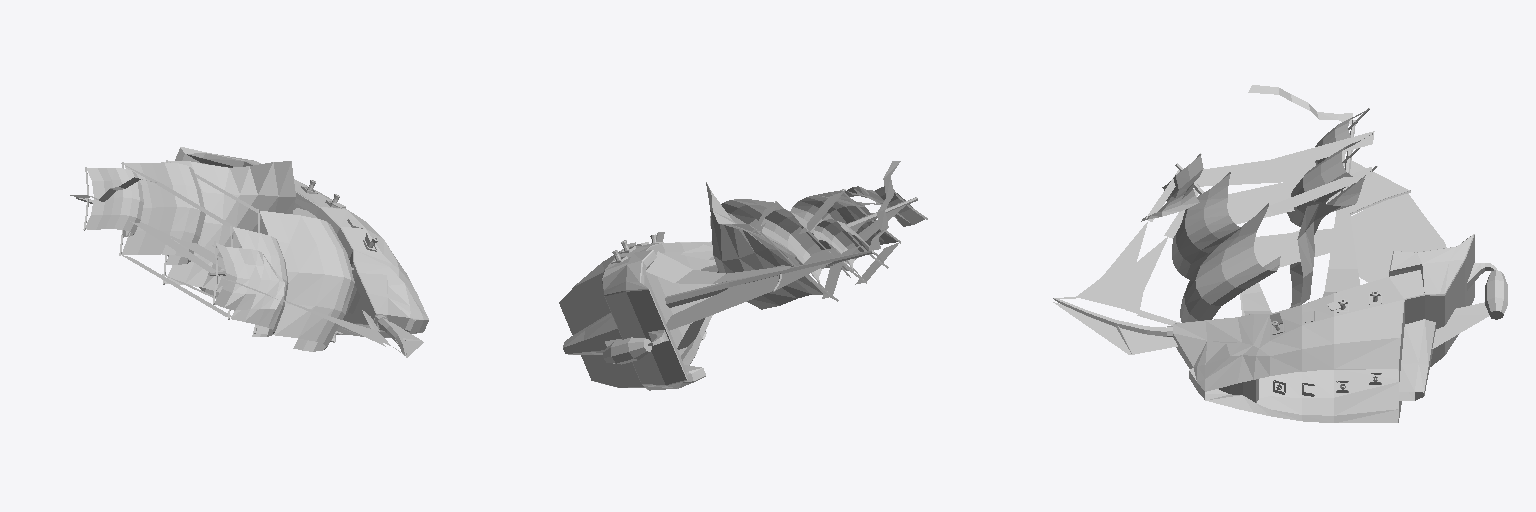
Rendered from Project Name.obj.
The picture shows the model from 3 angles: view 1: azimuth 30°, elevation 25°; view 2: azimuth 150°, elevation 25°; view 3: azimuth 270°, elevation 25°; orthographic projection.
Parts seen in each view (by area): view 1: 001_Sails_0, 000_Ship_0; view 2: 001_Sails_0, 000_Ship_0; view 3: 001_Sails_0, 000_Ship_0.
Part boxes in pixels (x1,y1,x2,y2): 001_Sails_0: (70,161,423,357); 000_Ship_0: (76,147,428,355); 001_Sails_0: (605,161,924,349); 000_Ship_0: (559,189,927,390); 001_Sails_0: (1053,85,1489,369); 000_Ship_0: (1053,108,1507,422).
Size of the model in its own units: 10.74 by 7.76 by 14.18.